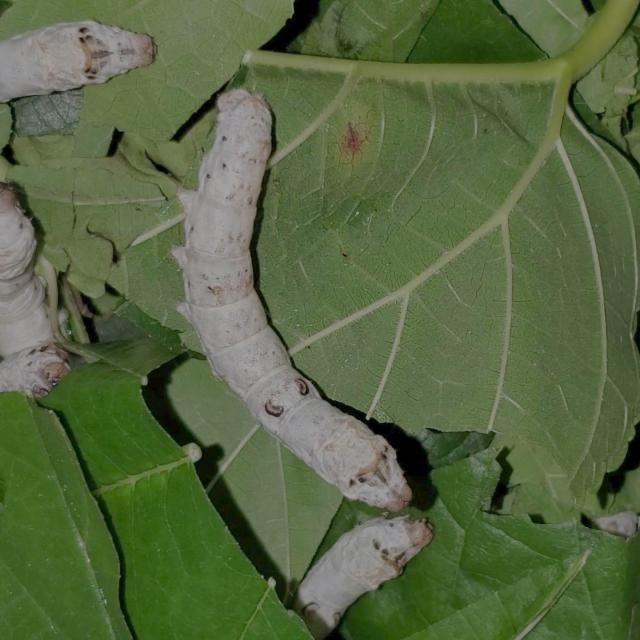Healthy: (117, 78, 495, 526)
